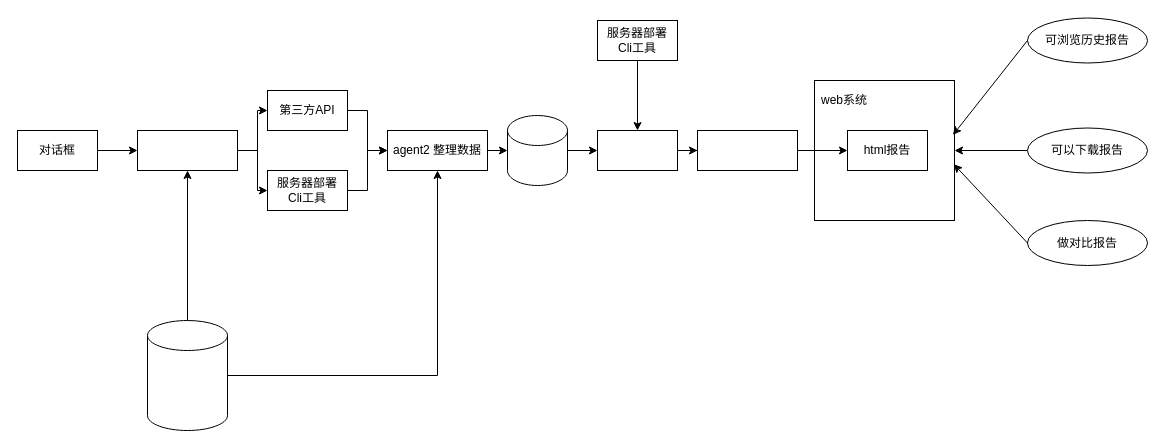
Image size: 1165x448. Some labels were removed from this diagram. Here are the shapes that lost their labels. From the top down, the centre of each, then its label:
At point 187,150: "agent1思考关键词".
At point 537,150: "数据库 mysql".
At point 637,150: "程序".
At point 747,150: "agent3整理数据".
At point 187,375: "服务器 部署大模型 deepseek".
